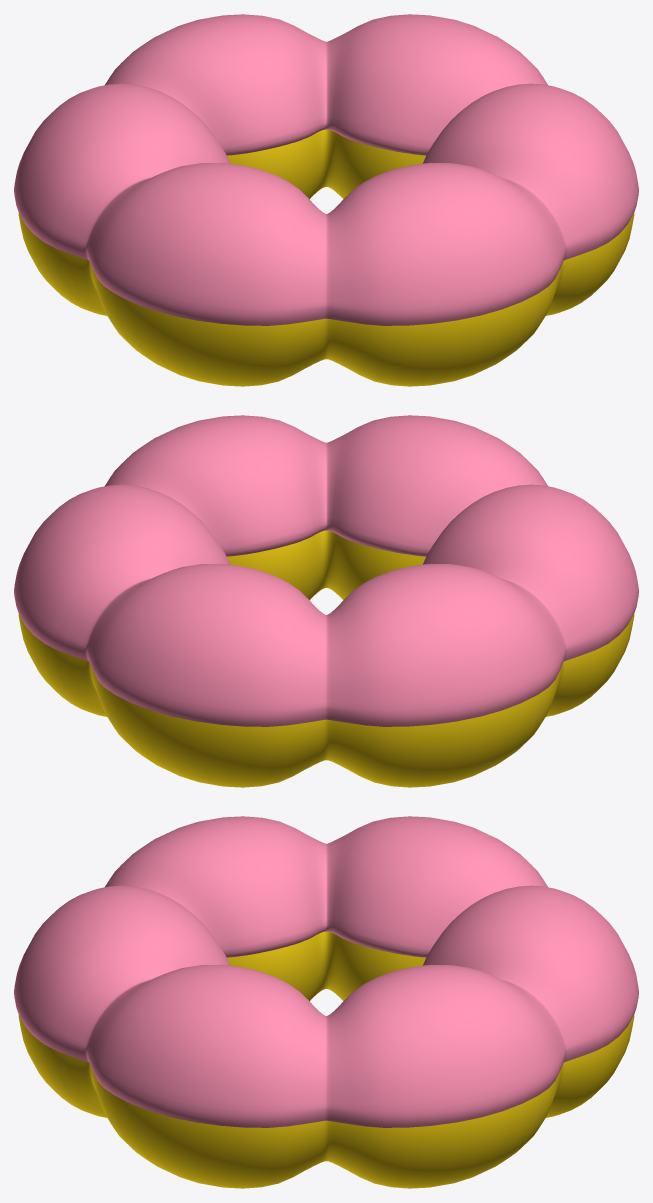
Rendered from Store_14_Donut_12.glb.
3 views of the same model, one above another, from view 1: azimuth 30°, elevation 25°; view 2: azimuth 150°, elevation 25°; view 3: azimuth 270°, elevation 25° (orthographic).
Parts seen in each view (by area): view 1: Store_14_Donut_12; view 2: Store_14_Donut_12; view 3: Store_14_Donut_12.
Boxes of the visible parts, <box> form: Store_14_Donut_12: <box>14,14,638,386</box>; Store_14_Donut_12: <box>14,415,638,787</box>; Store_14_Donut_12: <box>14,816,638,1188</box>.
Size of the model in its own units: 2.93 by 1.1 by 3.1.
1 material, 1 textured.
